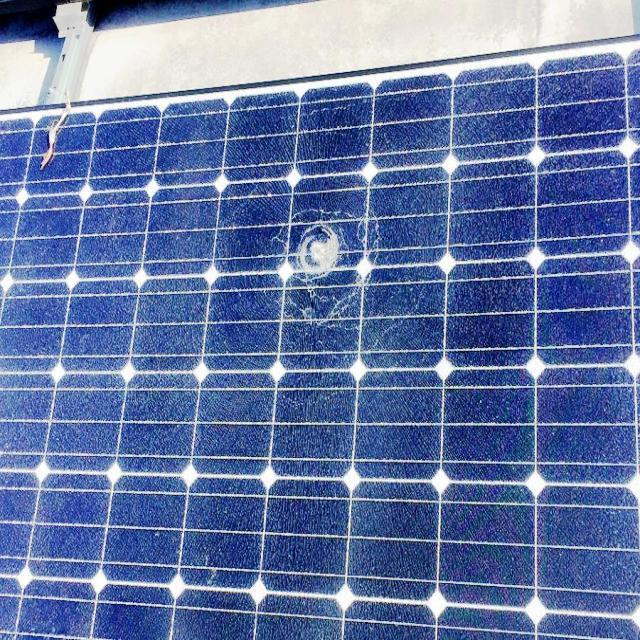faulty: (3, 42, 640, 640)
